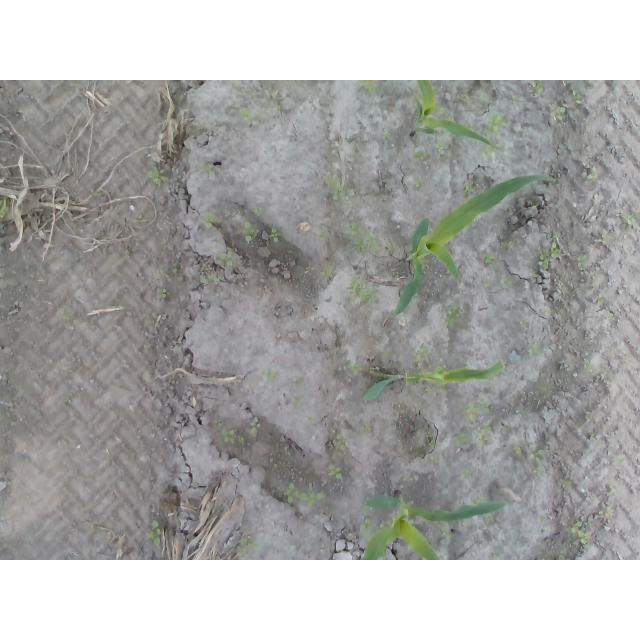Maize: (393, 174, 558, 319), (361, 490, 509, 560), (410, 81, 505, 154), (363, 360, 506, 405)
Weeds: (285, 483, 328, 513), (344, 222, 382, 254), (213, 419, 238, 449), (348, 277, 376, 303), (471, 498, 497, 524), (538, 243, 562, 270), (235, 537, 263, 560), (196, 264, 220, 288), (569, 521, 591, 546), (264, 88, 285, 114), (466, 400, 491, 420), (238, 222, 258, 246), (529, 449, 545, 478), (146, 521, 163, 548), (145, 166, 167, 186), (328, 179, 345, 202), (213, 252, 233, 271), (487, 114, 502, 139), (474, 423, 491, 445), (447, 307, 462, 331), (328, 463, 345, 481), (333, 434, 349, 453), (414, 347, 433, 363), (550, 103, 566, 122), (359, 81, 379, 96), (410, 147, 430, 161), (200, 162, 217, 178), (250, 420, 263, 440), (319, 263, 337, 277), (205, 214, 219, 232), (627, 209, 640, 228), (363, 517, 374, 539), (595, 234, 615, 246), (456, 433, 472, 447), (528, 81, 544, 95), (261, 368, 278, 381), (560, 286, 580, 297), (426, 432, 438, 450), (268, 228, 283, 242), (1, 199, 12, 218), (441, 525, 453, 542), (293, 377, 307, 391), (464, 179, 476, 195), (578, 256, 591, 270), (528, 341, 540, 356), (459, 468, 473, 480), (156, 287, 168, 301), (237, 108, 251, 120), (585, 358, 596, 372), (318, 230, 330, 242), (598, 508, 614, 517), (359, 424, 371, 436), (501, 241, 515, 251), (588, 166, 598, 180), (553, 226, 562, 241), (293, 398, 304, 410), (500, 279, 512, 290), (377, 520, 393, 528), (388, 240, 397, 254), (414, 176, 423, 190), (484, 252, 494, 264), (560, 480, 572, 489), (254, 204, 263, 216), (514, 446, 523, 458), (307, 414, 317, 422)
